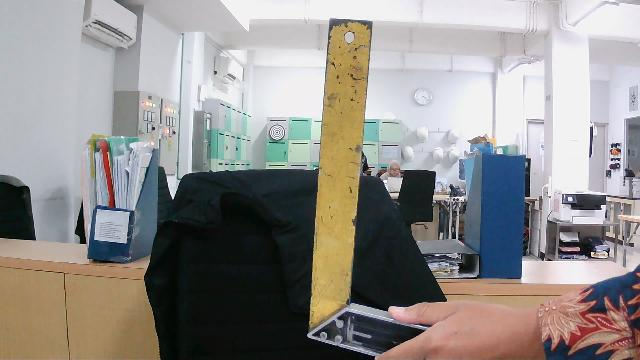penggaris_siku: (306, 8, 440, 360)
